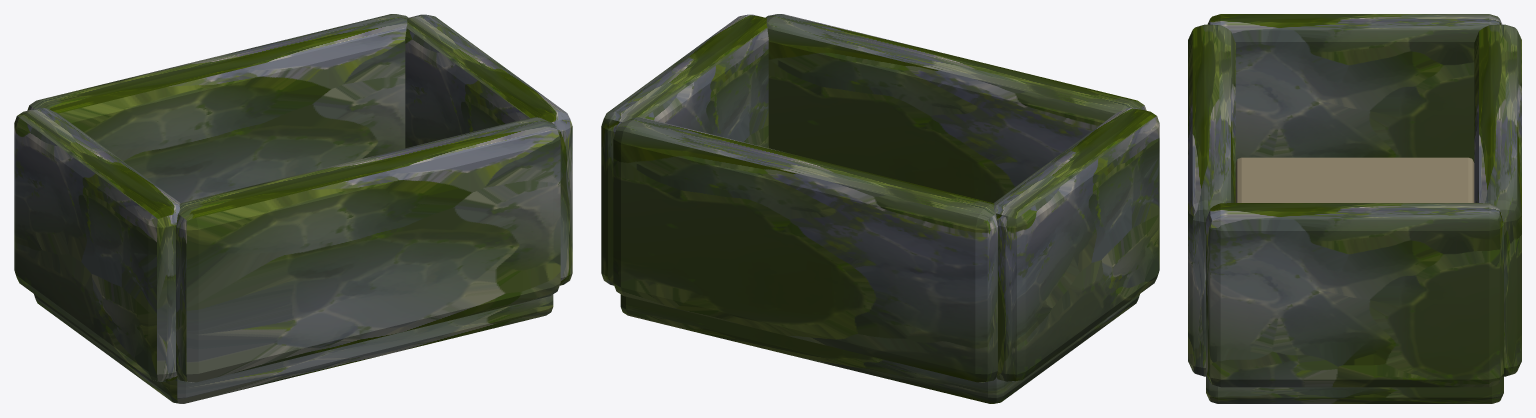
Rendered from Cracked_Planter_Barren.glb.
3 renders of one model, left to right at view 1: azimuth 30°, elevation 25°; view 2: azimuth 150°, elevation 25°; view 3: azimuth 270°, elevation 25°, orthographic.
Visible parts, largest first — view 1: Structure; view 2: Structure; view 3: Structure.
Part boxes in pixels (x1,y1,x2,y2): Structure: (14,14,572,403); Structure: (601,14,1159,403); Structure: (1188,14,1521,403).
Bounding box in the file's own units: 1.66 × 0.745 × 1.12.
Materials: 2 (1 with a texture image).
